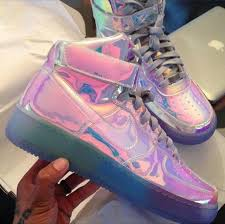nike: (37, 53, 157, 168)
